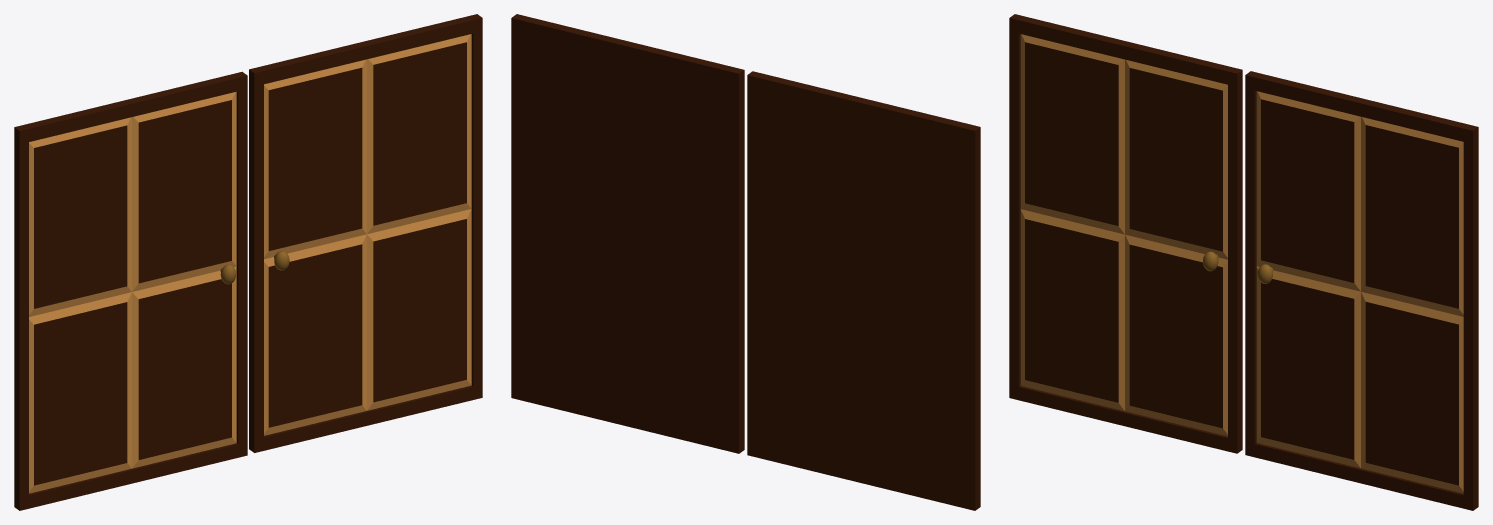
Rendered from Shutters Closed.fbx.
3 views of the same model, side by side, from view 1: azimuth 30°, elevation 25°; view 2: azimuth 150°, elevation 25°; view 3: azimuth 330°, elevation 25° (orthographic).
Visible parts, largest first — view 1: Plane.002; view 2: Plane.002; view 3: Plane.002.
Boxes of the visible parts, left/top/right/bottom form: Plane.002: left=14, top=14, right=482, bottom=510; Plane.002: left=511, top=14, right=980, bottom=510; Plane.002: left=1009, top=14, right=1478, bottom=510.
Size of the model in its own units: 1.11 by 0.8674 by 0.0559.
